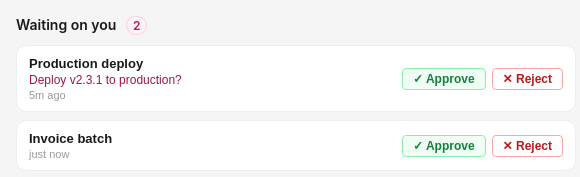
Test: ApprovalsInbox › drops the row even when someone else decided first
Check: the text "Production deploy" is shown, box [29,56,143,71]
Click the 1st button "✕ Reject" at (527, 78), box [492,68,563,90]
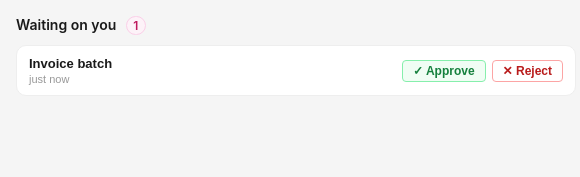
Check: the button "Production deploy" is gone
